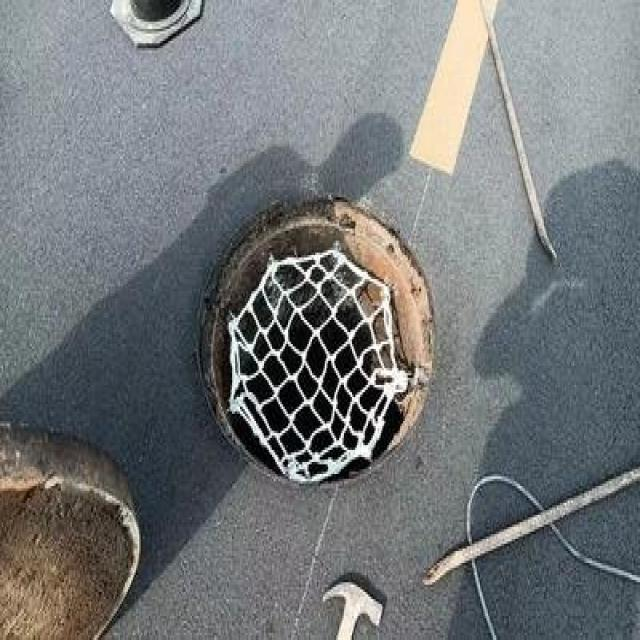manhole: (195, 186, 438, 488)
